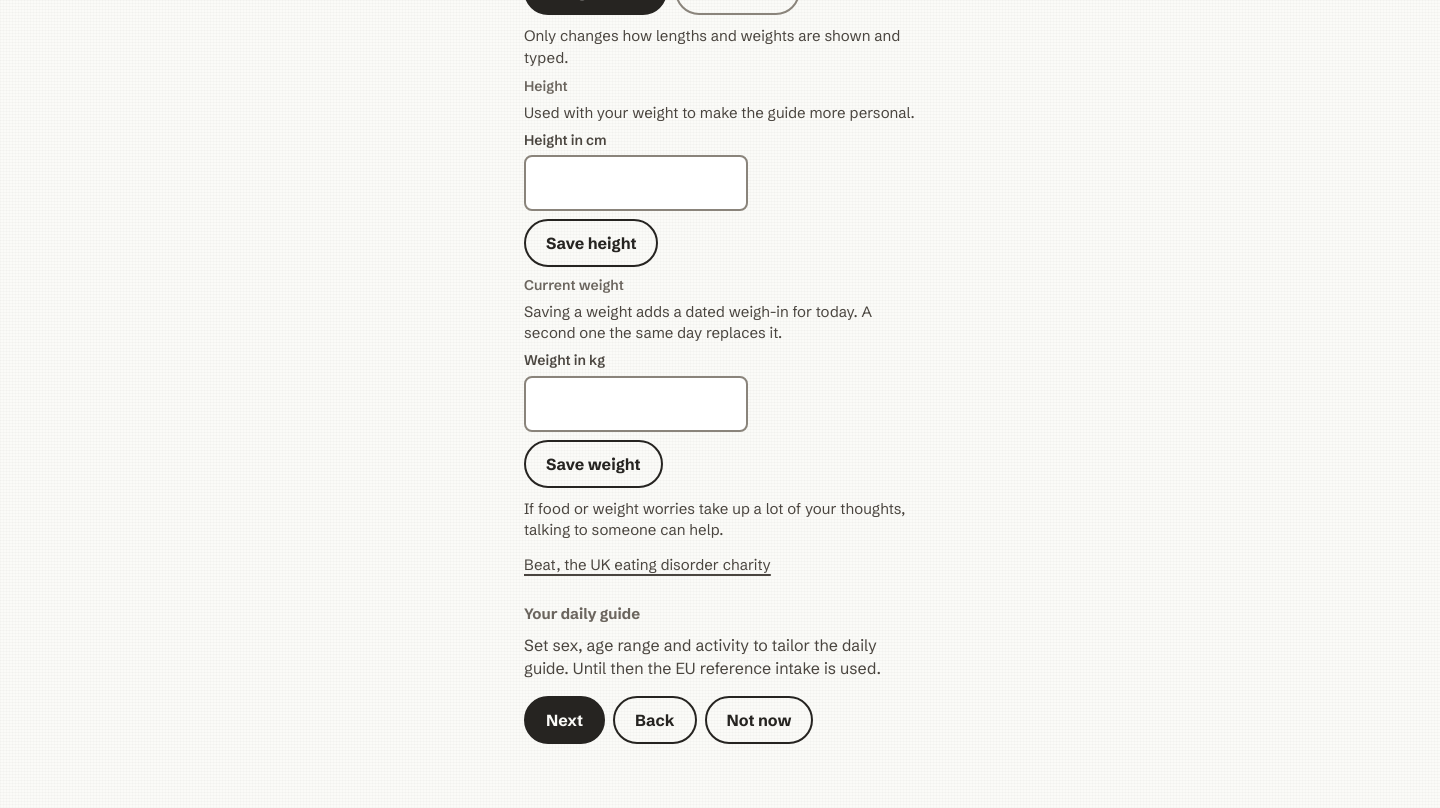
Test: the welcome body step settles what is typed › an invalid weight blocks Next, shows its message on the field and focuses it
The width and height of the screenshot is (1440, 808).
(page scrolled)
Type "500" into the field labelled "Weight in kg". click: coordinates (636, 404)
box: 526,378 -> 746,430
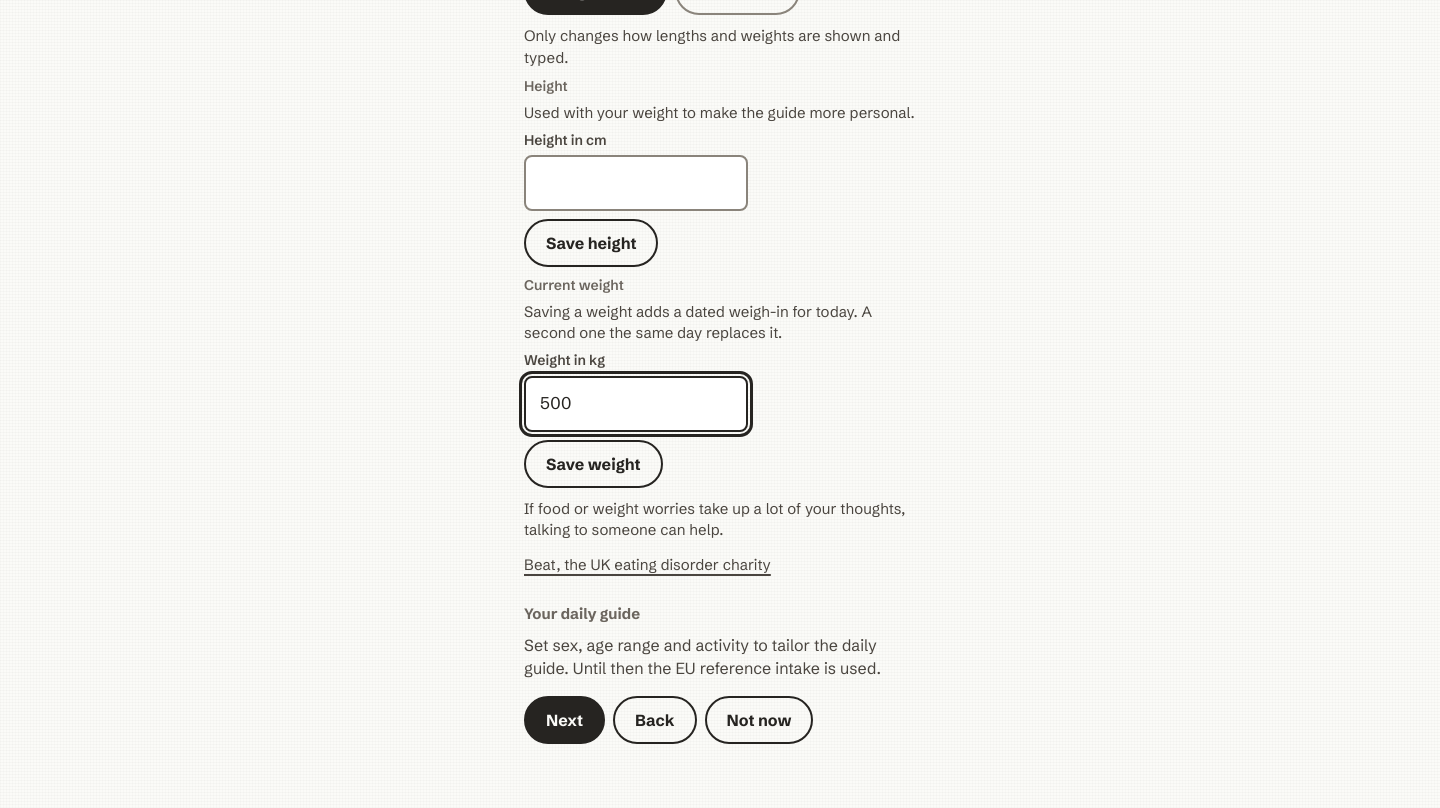
Click the button "Next". click: coordinates (564, 720)
box: 524,696 -> 605,744
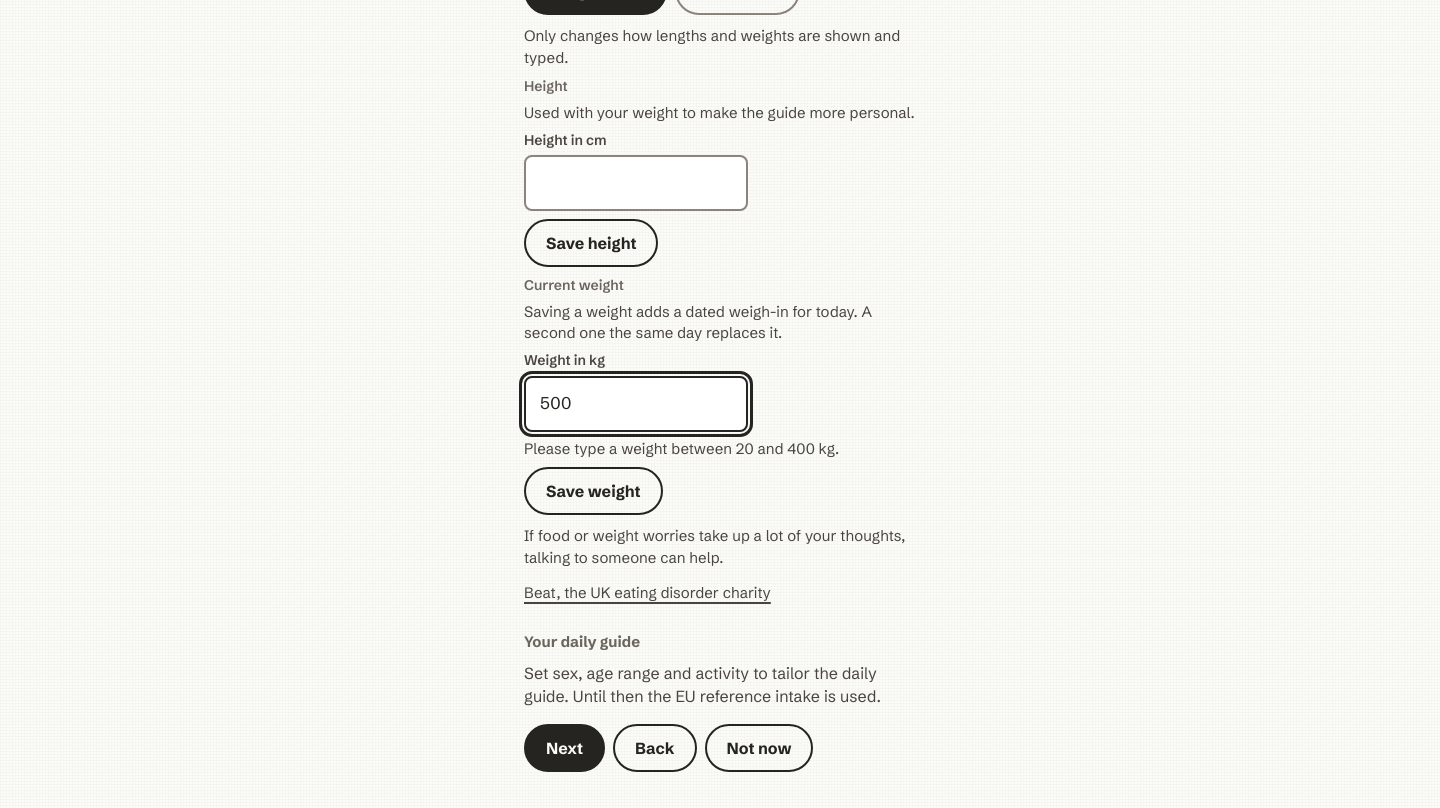
Result: the text "Please type a weight between 20 and 400 kg." is shown at 524,439 -> 839,458
# Corrected, it is kept and Next goes on.
Replace the text in the field labelled "Weight in kg" with "70". click: coordinates (636, 404)
box: 526,378 -> 746,430
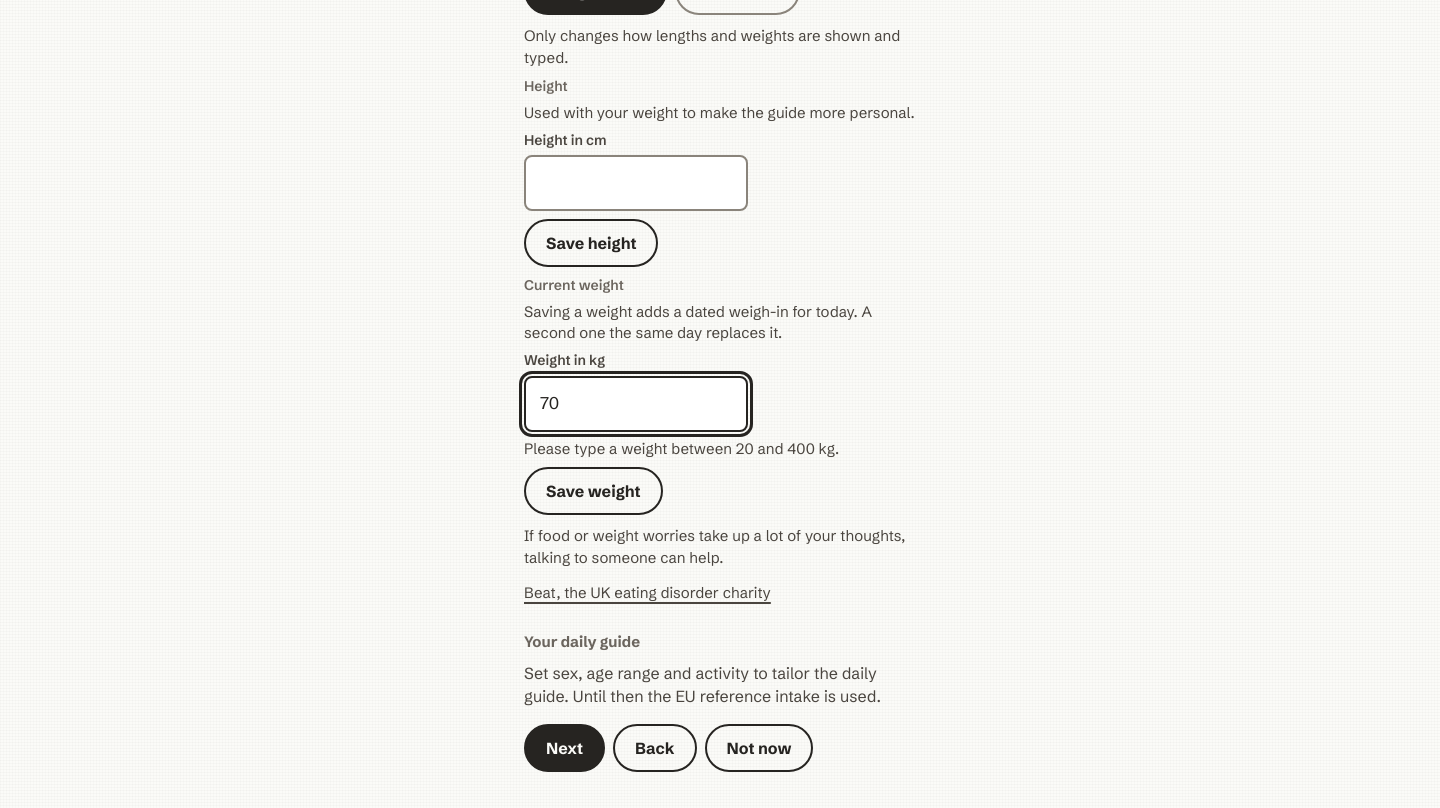
Click the button "Next". click: coordinates (564, 748)
box: 524,724 -> 605,772
(page scrolled)
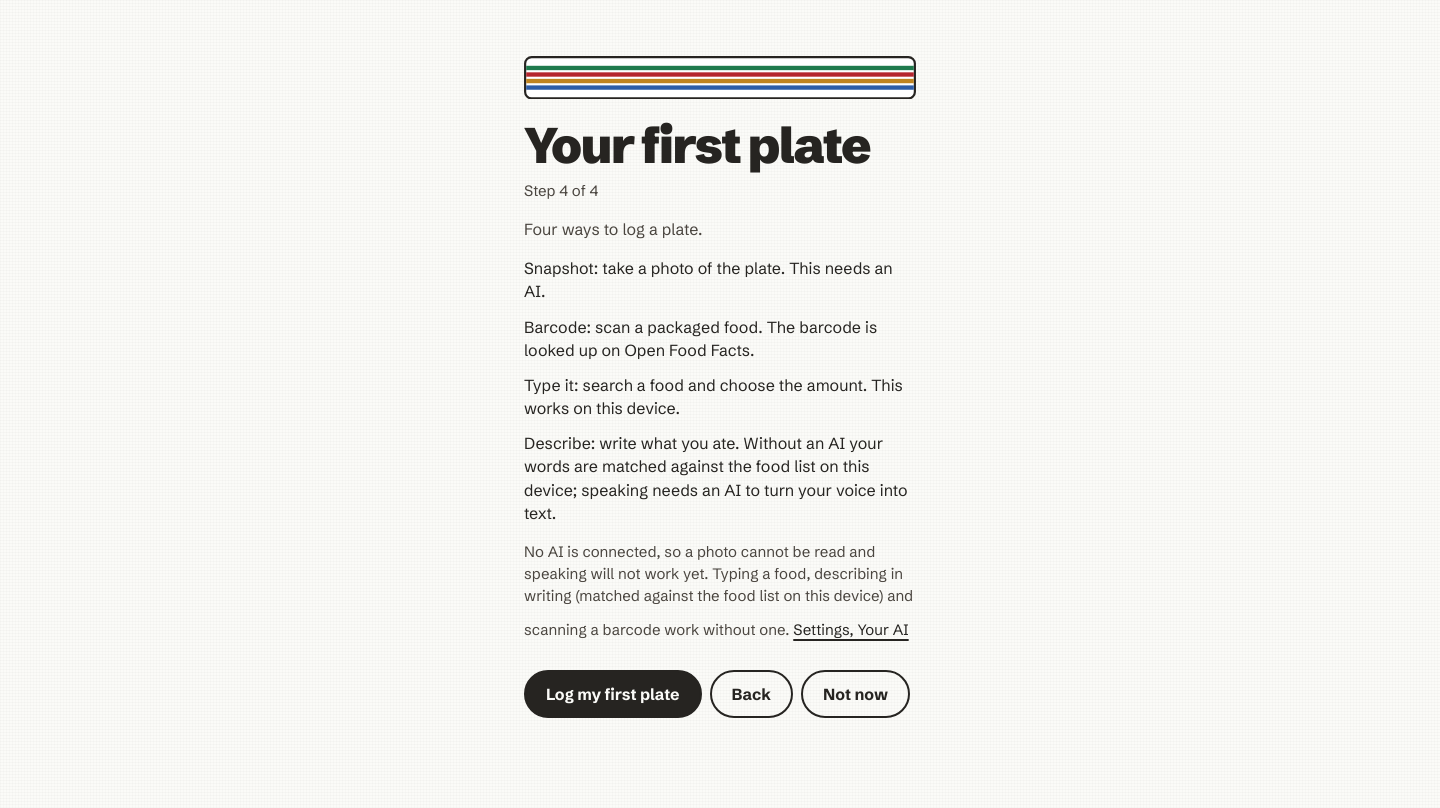
Result: the heading "Your first plate" is shown at 524,123 -> 916,168
